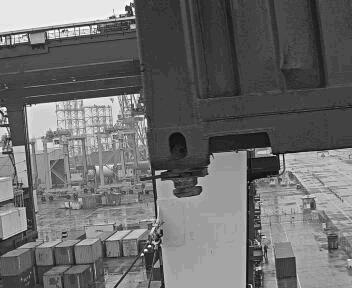twist_lock_1: (189, 164, 248, 199)
